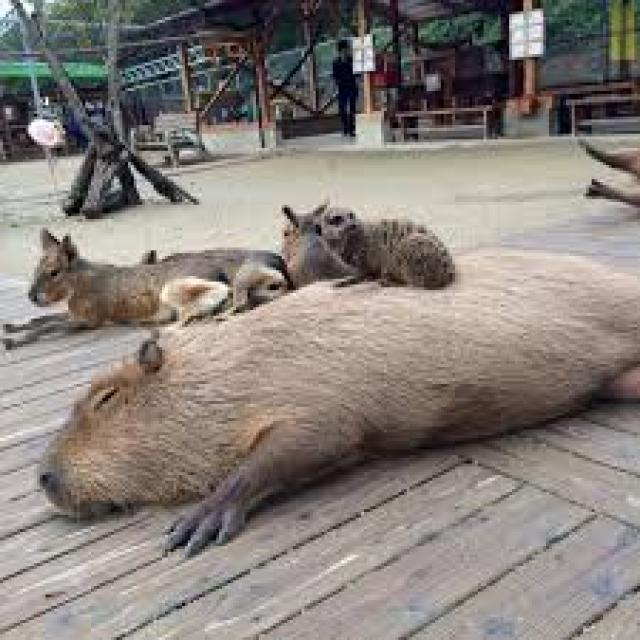capy: (36, 251, 640, 545)
